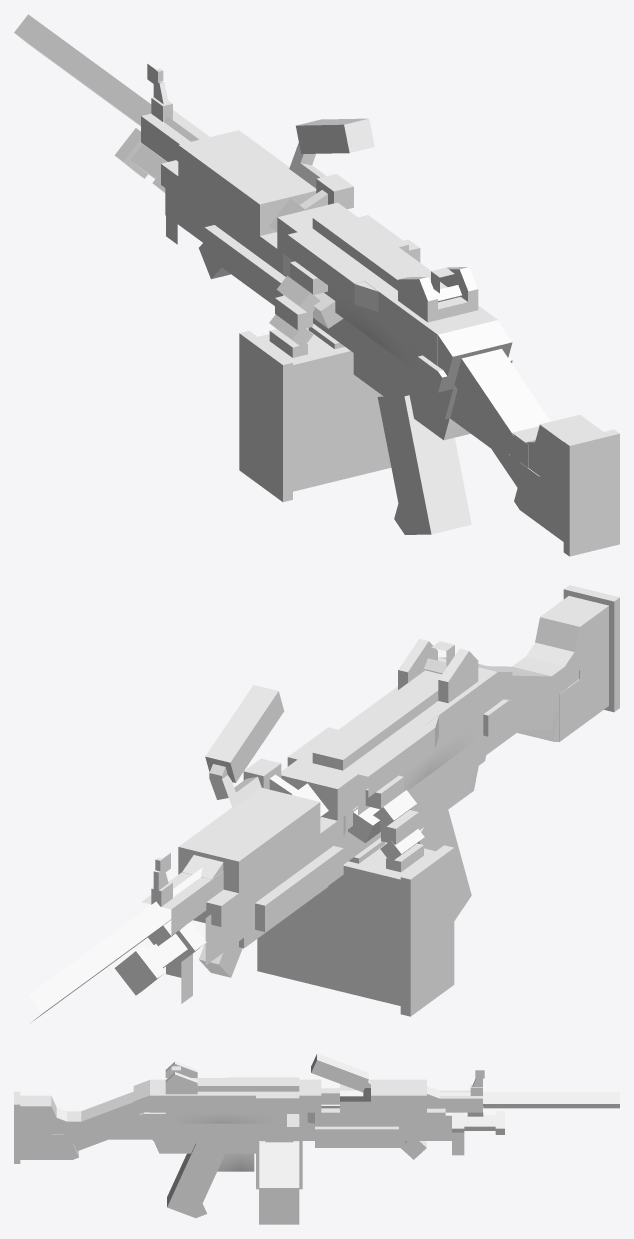
The model's file is jeg_light_machine_gun.glb.
3 views of the same model, one above another, from view 1: azimuth 30°, elevation 25°; view 2: azimuth 150°, elevation 25°; view 3: azimuth 270°, elevation 25° (orthographic). The views are drawn at different scales.
Parts seen in each view (by area): view 1: Gun; view 2: Gun; view 3: Gun.
Boxes of the visible parts, box(x1,y1,x2,y2) form: Gun: box(14, 14, 619, 556); Gun: box(28, 585, 619, 1023); Gun: box(14, 1053, 619, 1224).
Size of the model in its own units: 0.2062 by 0.3727 by 1.22.
Materials: 1 (1 with a texture image).
